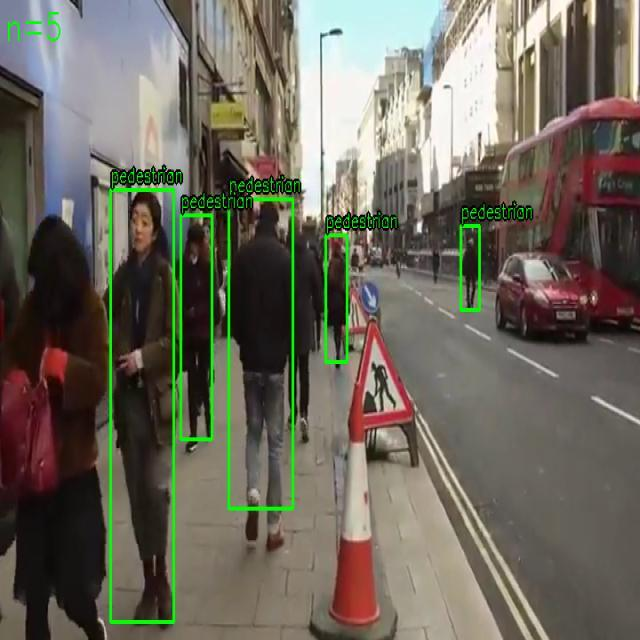with scooter: (110, 189, 174, 623), (228, 198, 294, 510), (180, 214, 212, 440), (326, 235, 348, 362), (460, 225, 480, 311)
